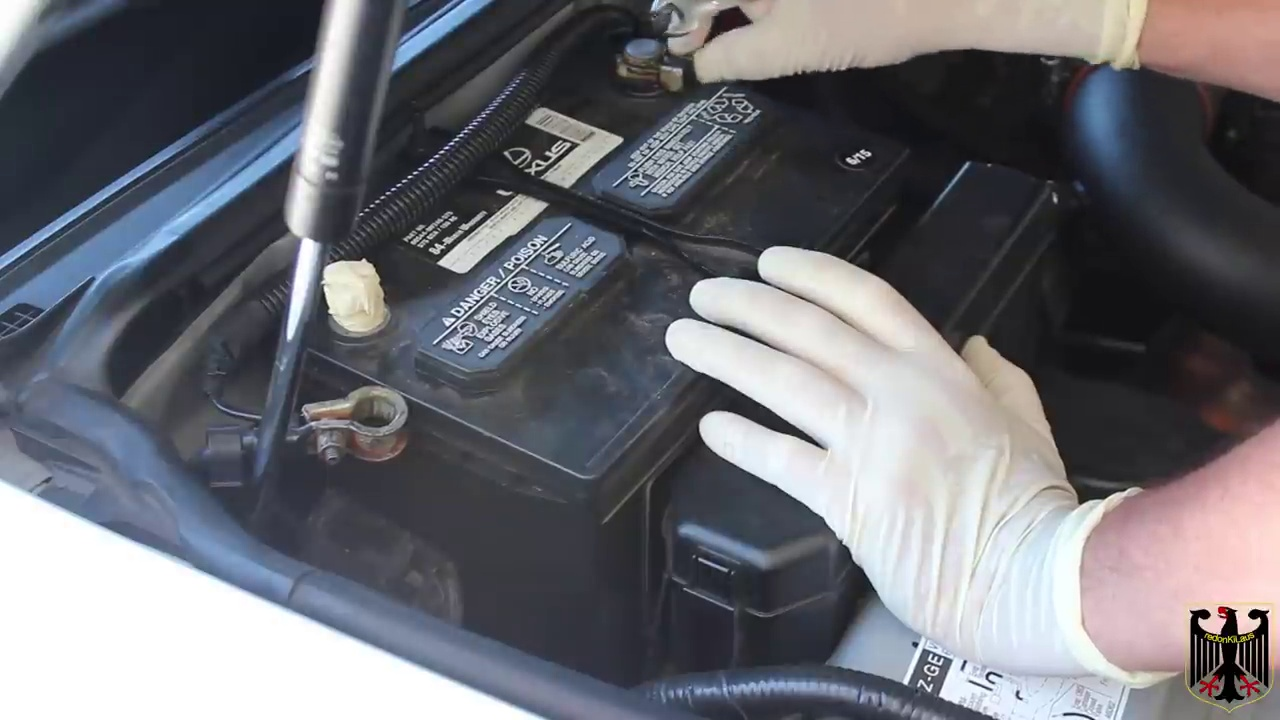battery: (260, 40, 912, 487)
